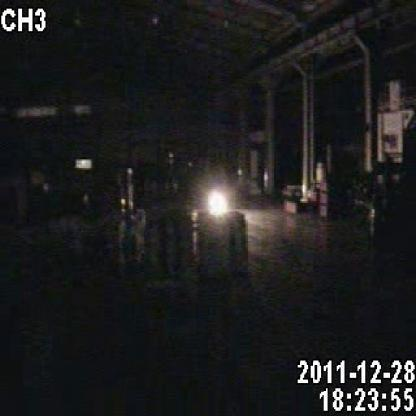fire: (204, 168, 239, 227)
